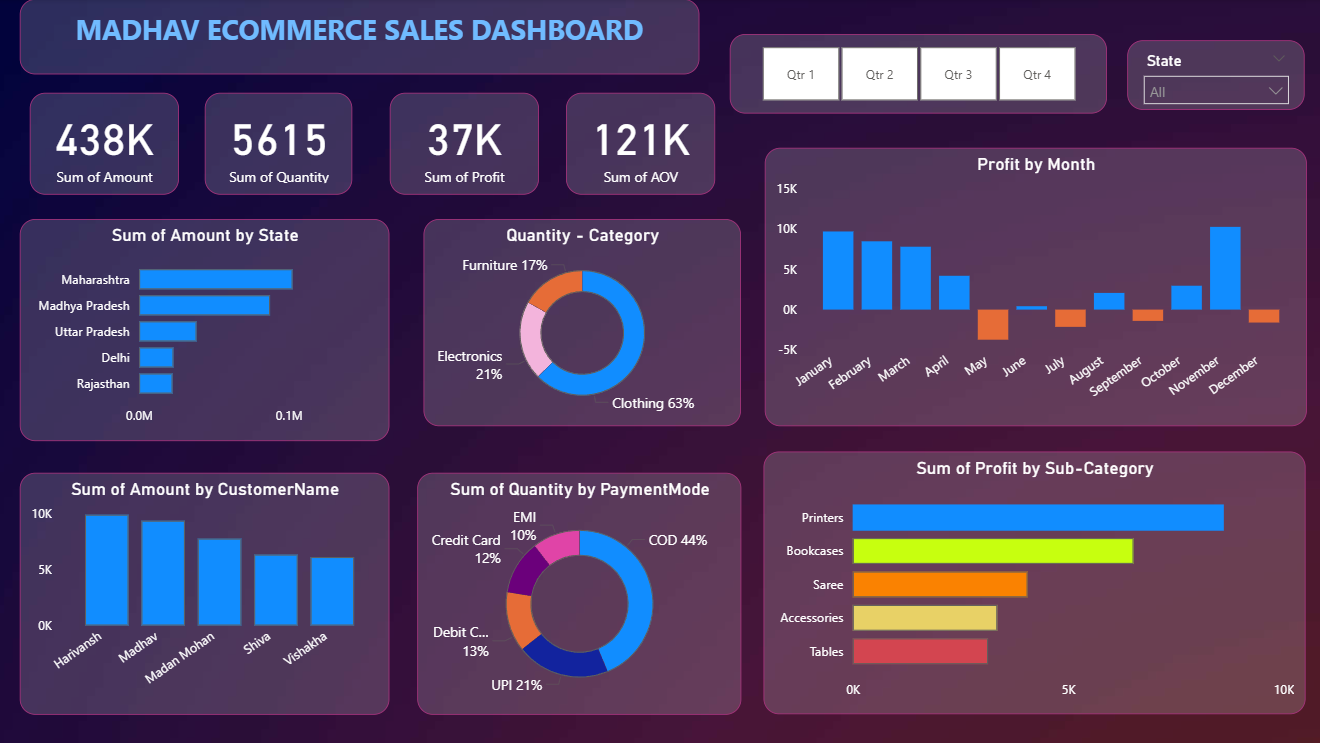

Layout of this report page (visuals, bound fields, positions):
{"tool":"powerbi","page":{"name":"Page 1","canvas":[1280,720],"ordinal":0},"visuals":[{"type":"textbox","box":[23.3,0,655.9,72.7],"z":0},{"type":"columnChart","title":"Profit by Month","fields":{"Y":["Details.Profit"],"Category":["Orders.Order Date.Variation.Date Hierarchy.Month"]},"box":[742.4,144.1,522.8,269],"z":1000},{"type":"barChart","fields":{"Category":["Details.Sub-Category"],"Y":["Details.Profit"]},"box":[741,436.4,522.8,253.9],"z":2000},{"type":"donutChart","title":"Quantity - Category","fields":{"Category":["Details.Category"],"Y":["Details.Quantity"]},"box":[413,212.7,306,200.3],"z":3000},{"type":"donutChart","fields":{"Y":["Details.Quantity"],"Category":["Details.PaymentMode"]},"box":[406.2,456.9,312.9,233.3],"z":4000},{"type":"card","fields":{"Values":["Details.Amount"]},"box":[32.9,90.6,144.1,98.8],"z":5000},{"type":"card","fields":{"Values":["Details.Quantity"]},"box":[201.7,90.6,142.7,98.8],"z":6000},{"type":"card","fields":{"Values":["Details.Profit"]},"box":[380.1,90.6,144.1,98.8],"z":7000},{"type":"card","fields":{"Values":["Details.AOV"]},"box":[550.3,90.6,144.1,98.8],"z":8000},{"type":"barChart","fields":{"Category":["Orders.State"],"Y":["Details.Amount"]},"box":[23.3,212.7,356.8,214.1],"z":9000},{"type":"columnChart","fields":{"Category":["Orders.CustomerName"],"Y":["Details.Amount"]},"box":[23.3,456.9,356.8,233.3],"z":10000},{"type":"slicer","fields":{"Values":["Orders.Order Date.Variation.Date Hierarchy.Quarter"]},"box":[708.1,34.3,363.6,76.8],"z":11000},{"type":"slicer","fields":{"Values":["Orders.State"]},"box":[1092.3,39.8,171.5,67.2],"z":11001}]}

Visuals, with their boxes in screenshot pixels (x1, y1, x2, y2), scaled from the page's 1280x720 canvas onto the 1320x743 screenshot:
textbox: (left=24, top=0, right=700, bottom=75)
"Profit by Month" columnChart: (left=766, top=149, right=1305, bottom=426)
barChart - Details.Sub-Category x Details.Profit: (left=764, top=450, right=1303, bottom=712)
"Quantity - Category" donutChart: (left=426, top=219, right=741, bottom=426)
donutChart - Details.Quantity x Details.PaymentMode: (left=419, top=471, right=742, bottom=712)
card - Details.Amount: (left=34, top=93, right=183, bottom=195)
card - Details.Quantity: (left=208, top=93, right=355, bottom=195)
card - Details.Profit: (left=392, top=93, right=541, bottom=195)
card - Details.AOV: (left=567, top=93, right=716, bottom=195)
barChart - Orders.State x Details.Amount: (left=24, top=219, right=392, bottom=440)
columnChart - Orders.CustomerName x Details.Amount: (left=24, top=471, right=392, bottom=712)
slicer - Orders.Order Date.Variation.Date Hierarchy.Quarter: (left=730, top=35, right=1105, bottom=115)
slicer - Orders.State: (left=1126, top=41, right=1303, bottom=110)
